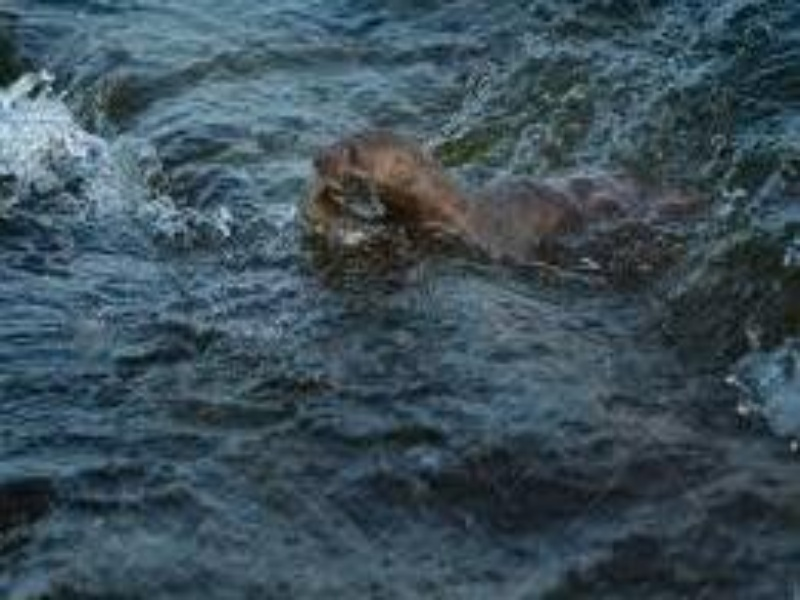minkish: (300, 134, 624, 273)
